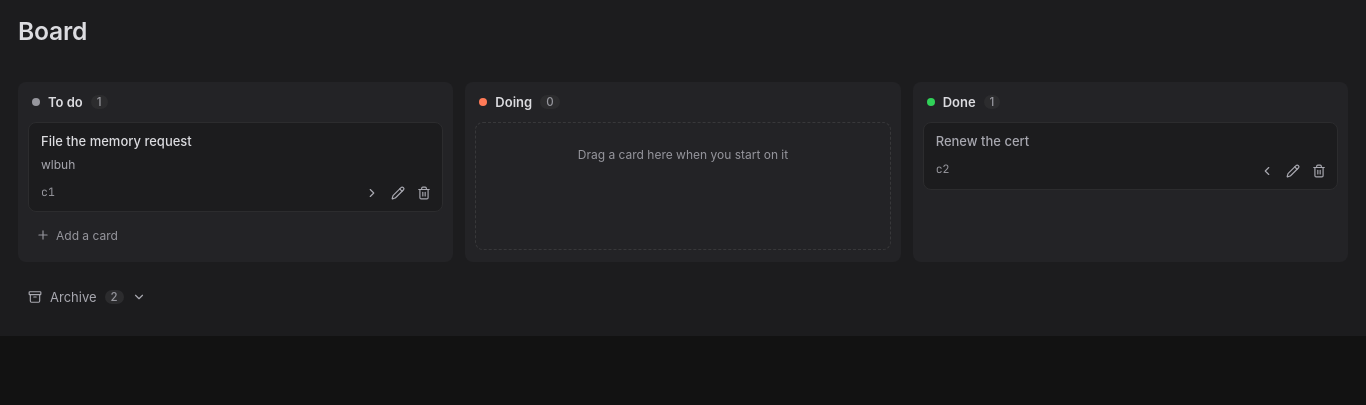
Test case: the board page › a card is edited in place; Escape leaves it as it was
Click the button named "Edit" in the row of "c2" at (1293, 170), box [1281,158,1305,182]
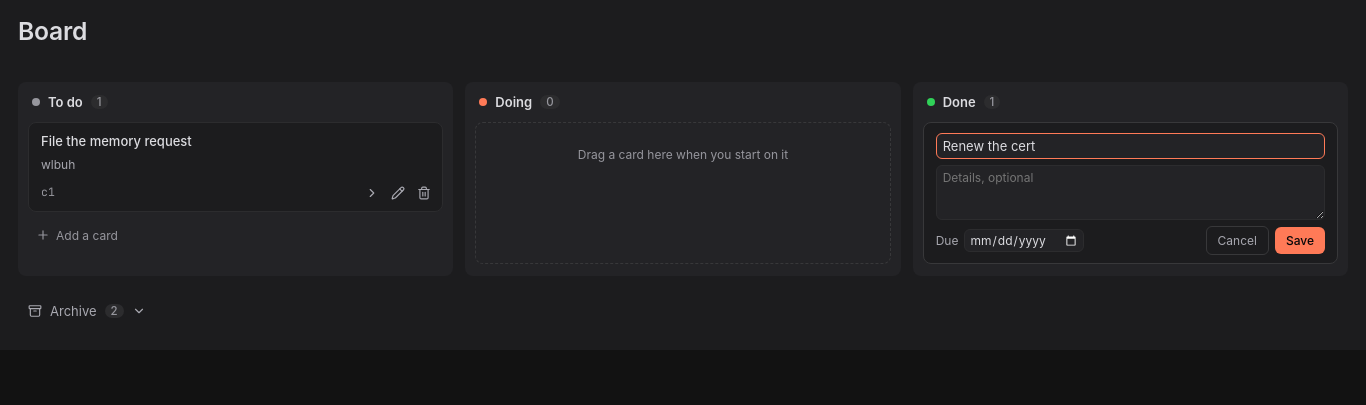
Replace the text in the field named "Title" with "Something else" at (1130, 146), box [936,133,1325,159]
Press Escape in the field named "Title", box [936,133,1325,159]
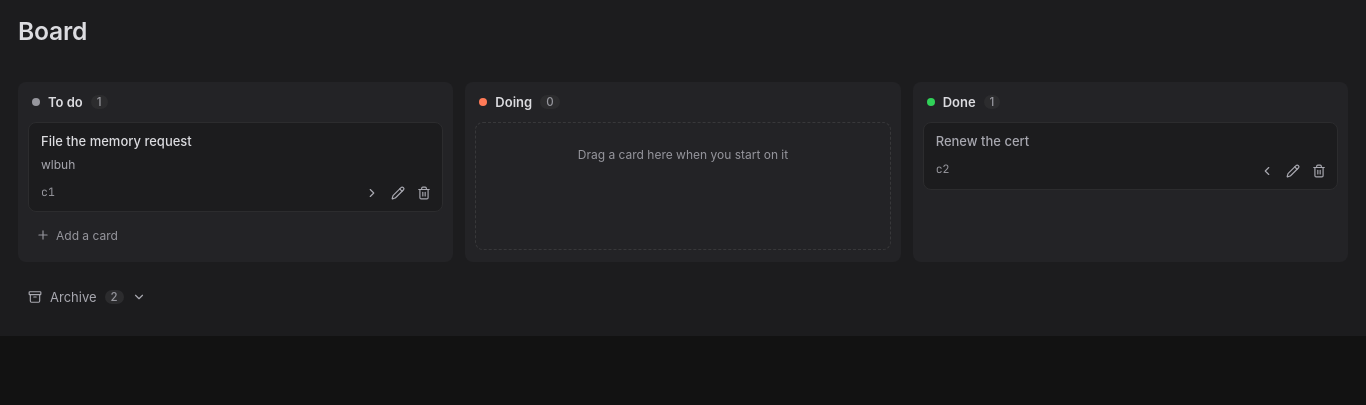
expect the text "Renew the cert" is shown: met, box [936,133,1029,149]
Click the button named "Edit" in the row of "c1" at (398, 193), box [386,181,410,205]
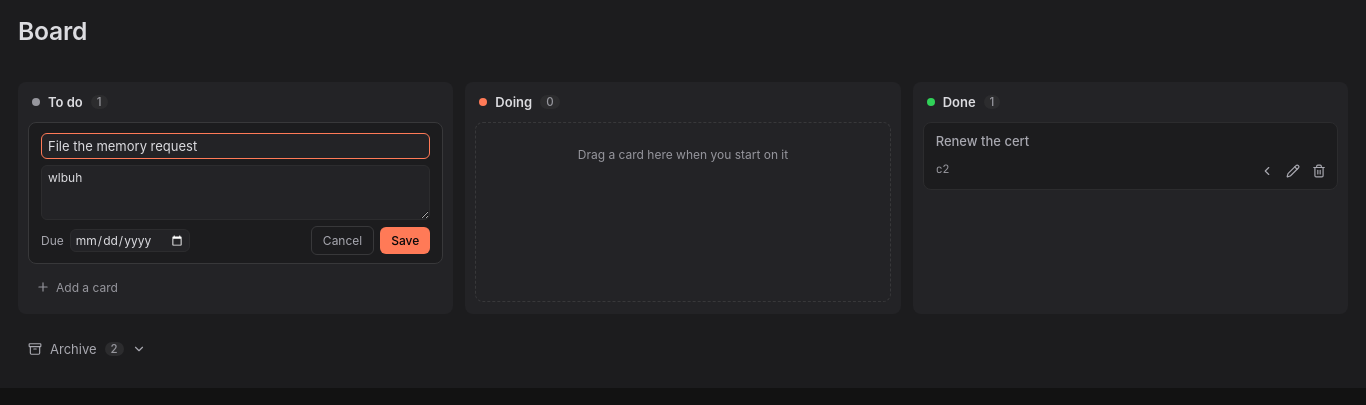
expect the text box named "Note" holds "wlbuh": met, box [41,165,430,220]
Replace the text in the field named "Title" with "File it today" at (236, 146), box [41,133,430,159]
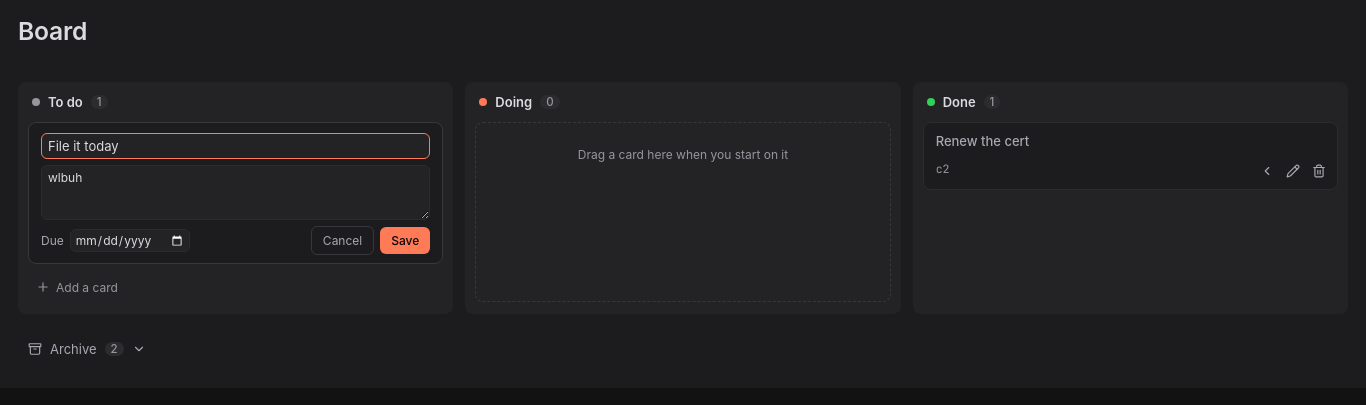
Clear the text box named "Note" at (236, 192), box [41,165,430,220]
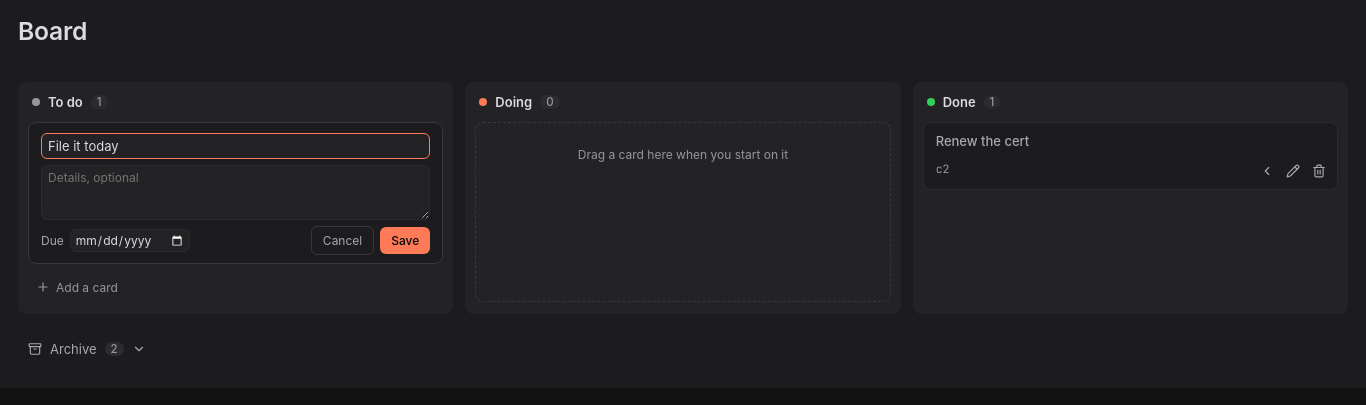
Click the button "Save" at (405, 240), box [380,227,430,254]
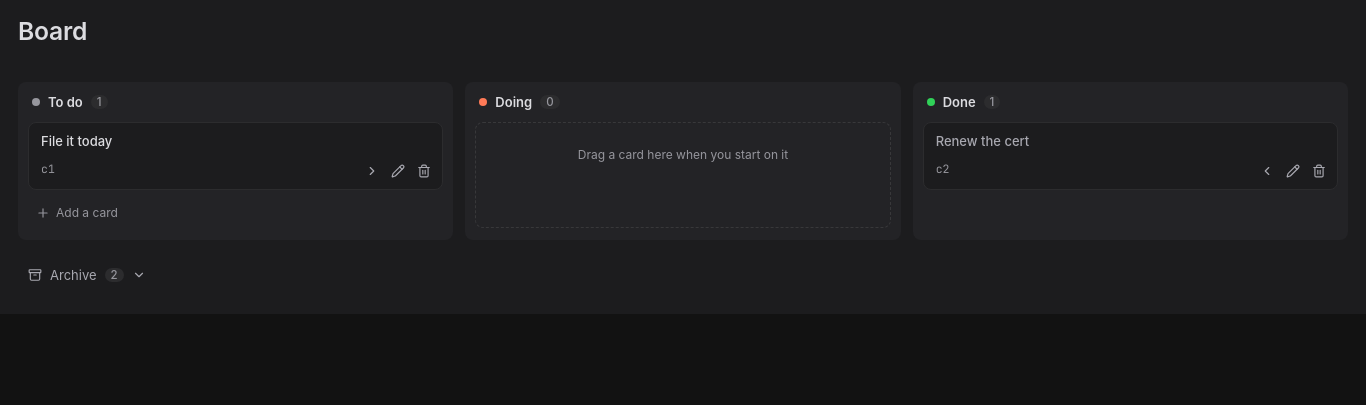
expect the text "wlbuh" is not shown: met
expect the text "File it today" is shown: met, box [41,133,112,149]
